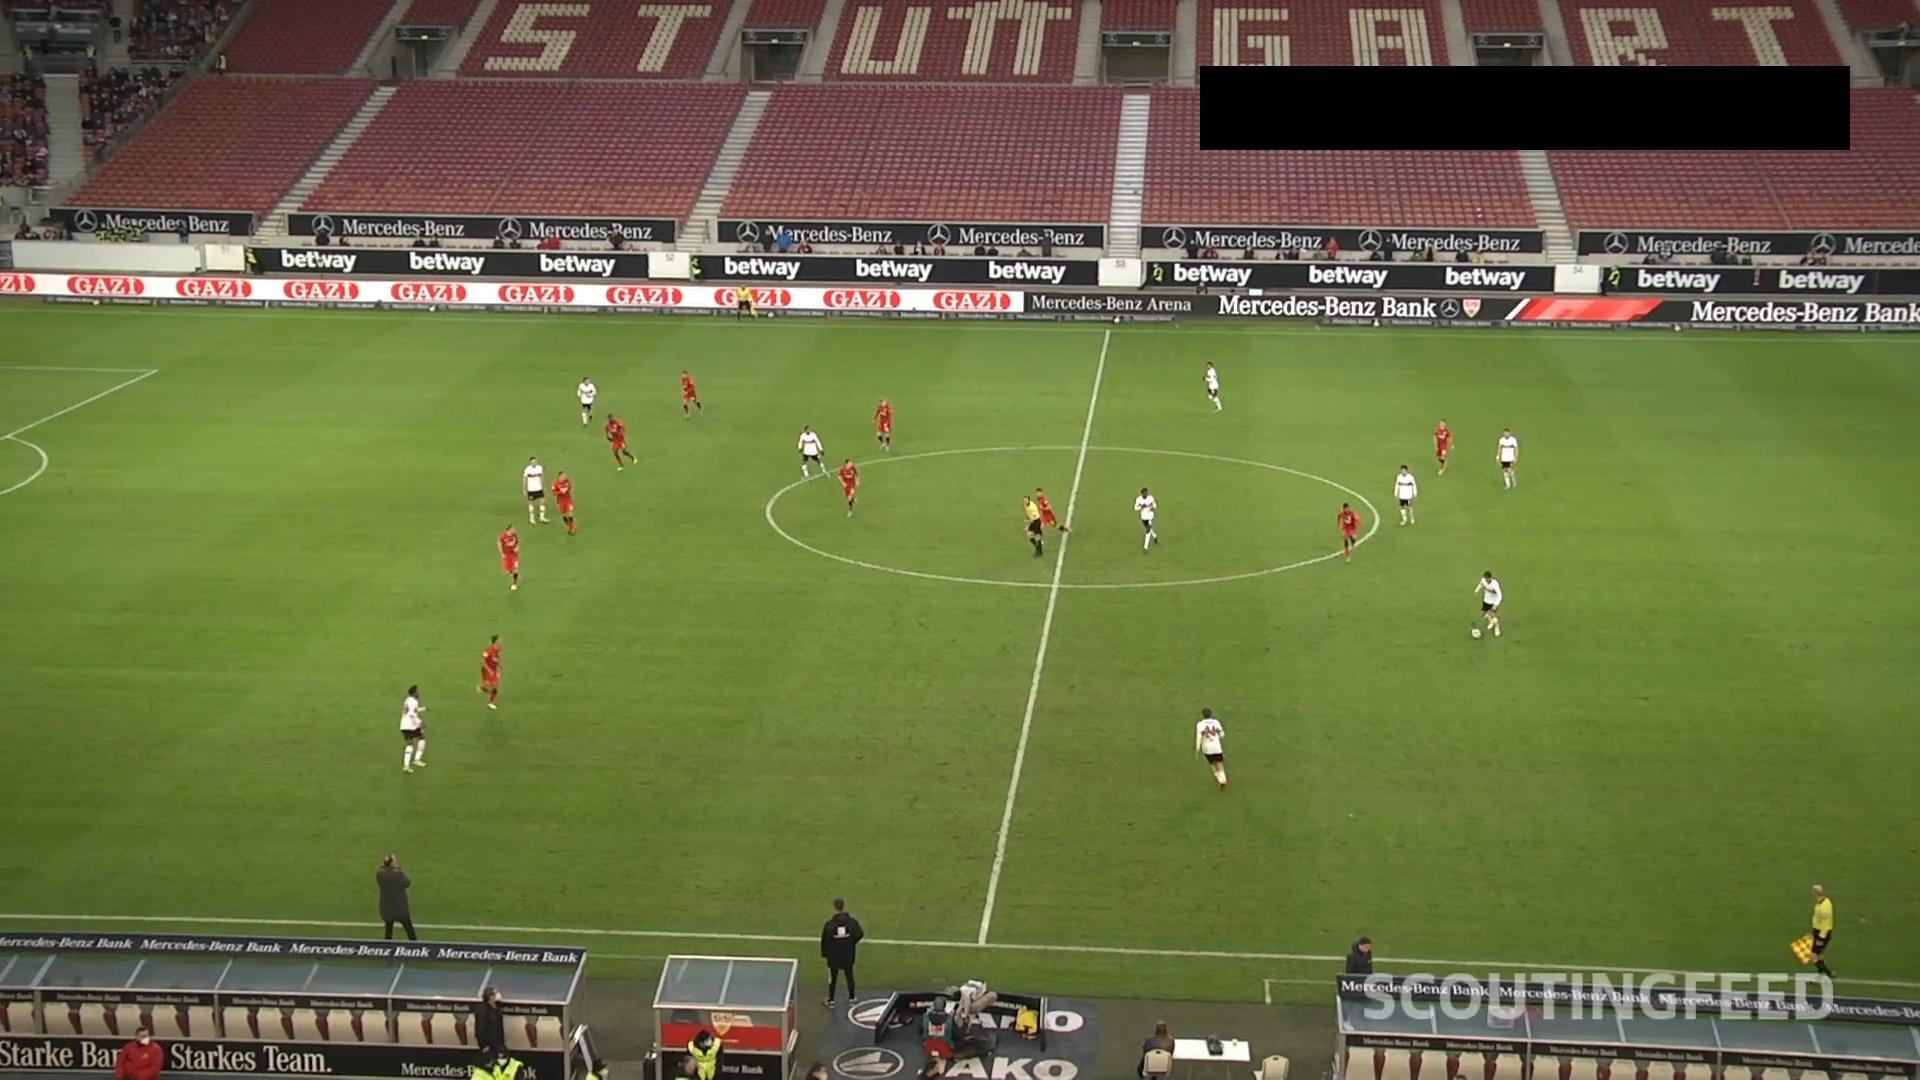ball: (1469, 626, 1485, 641)
